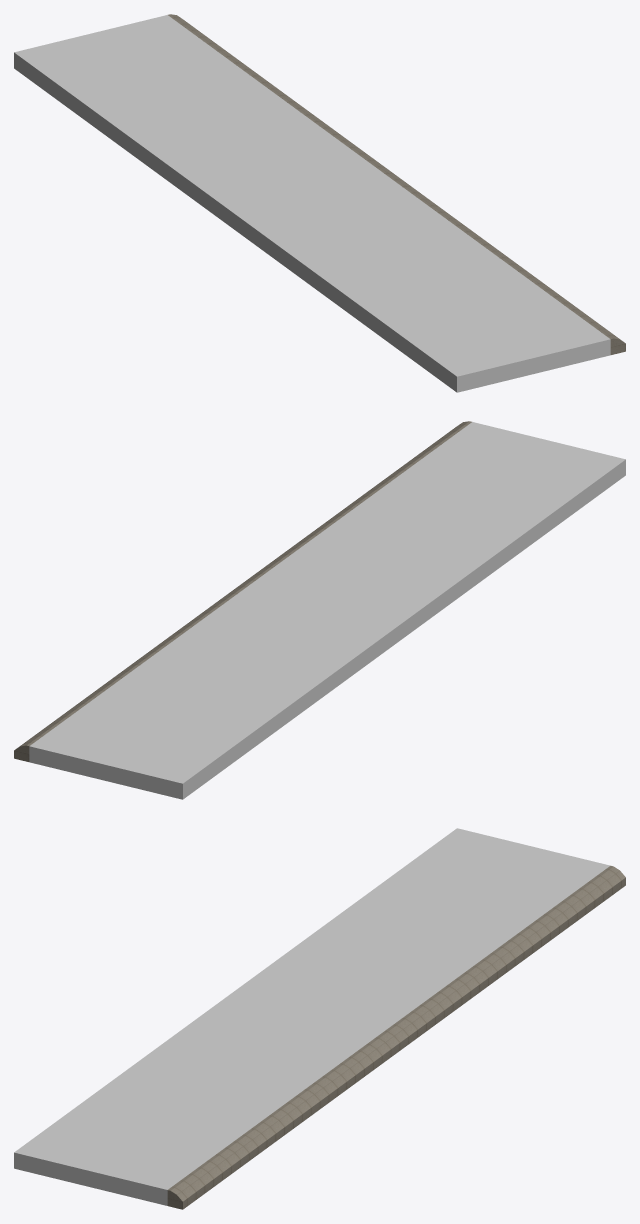
The model's file is via he middle.fbx.
3 views of the same model, one above another, from view 1: azimuth 30°, elevation 25°; view 2: azimuth 150°, elevation 25°; view 3: azimuth 330°, elevation 25° (orthographic).
Visible parts, largest first — view 1: Cube.011; view 2: Cube.011; view 3: Cube.011.
Part boxes in pixels (x1,y1,x2,y2): Cube.011: [14, 14, 625, 392]; Cube.011: [14, 421, 625, 799]; Cube.011: [14, 828, 625, 1209].
Bounding box in the file's own units: 2200 × 200 × 10000.
